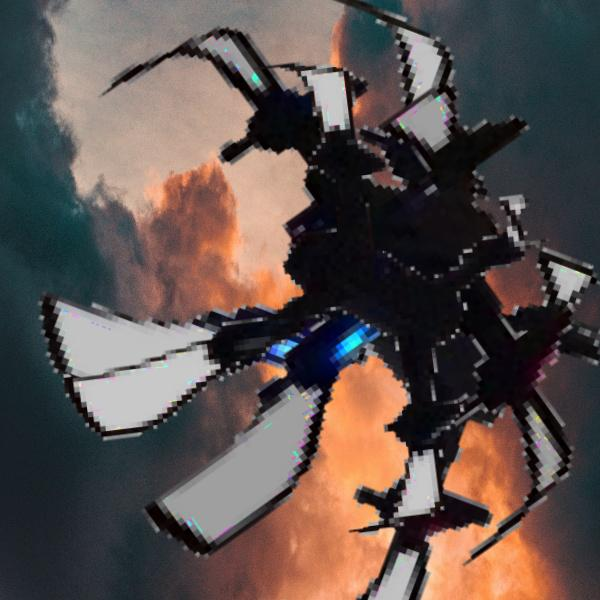drone: (40, 42, 569, 571)
